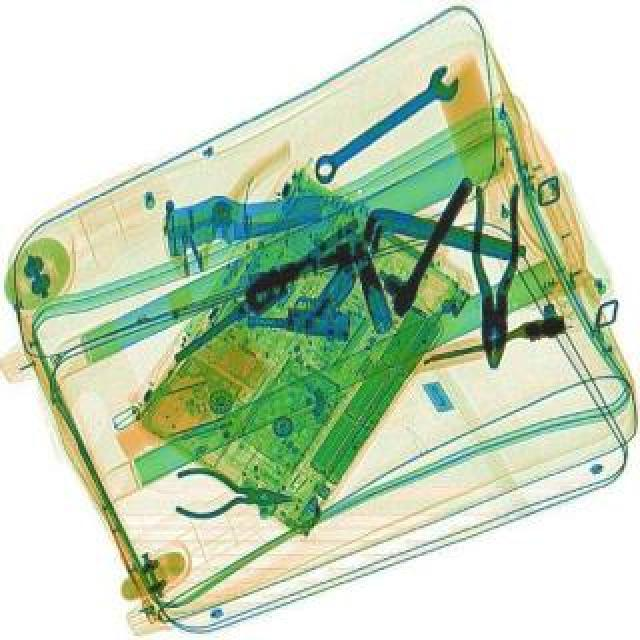gun: (244, 252, 360, 342)
scissors: (304, 58, 468, 190)
wrench: (470, 182, 518, 368), (174, 464, 294, 524)
